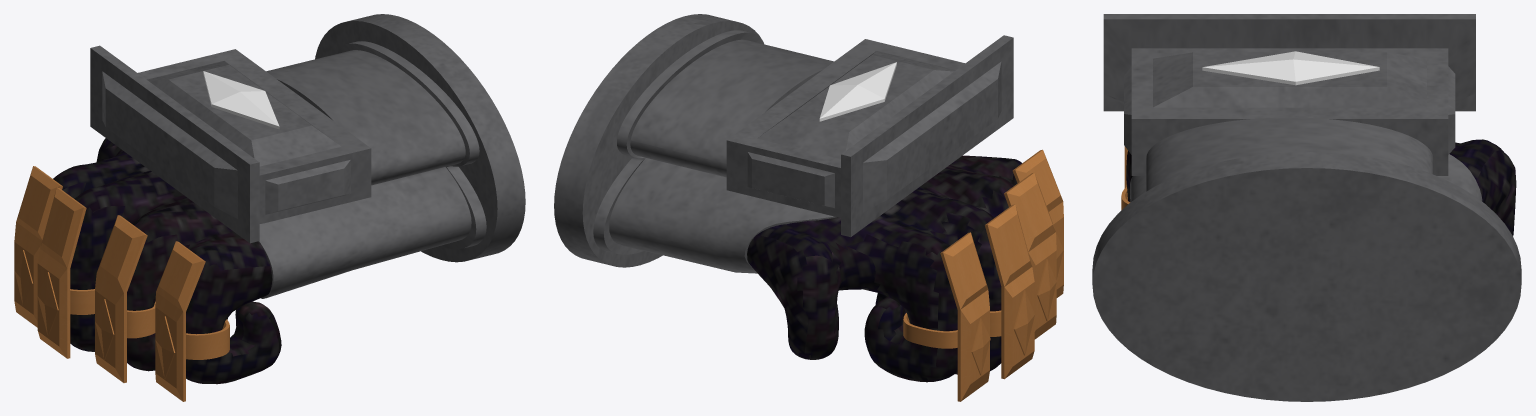
File: power fist.fbx
3 renders of one model, left to right at view 1: azimuth 30°, elevation 25°; view 2: azimuth 150°, elevation 25°; view 3: azimuth 270°, elevation 25°, orthographic. The views are drawn at different scales.
Parts seen in each view (by area): view 1: housing, punch thingy, glove, end cap, knucle guard pinky, knucle guard ringfinger, knucle guard middlefinger, knucle guard pointerfinger, crystal; view 2: punch thingy, housing, glove, end cap, knucle guard pointerfinger, knucle guard middlefinger, knucle guard ringfinger, crystal, knucle guard pinky; view 3: end cap, punch thingy, housing, crystal, glove.
Boxes of the visible parts, x1,y1,x2,y2 form: housing: [258, 41, 486, 298]; punch thingy: [90, 45, 371, 243]; glove: [53, 138, 281, 384]; end cap: [315, 14, 525, 262]; knucle guard pinky: [155, 241, 229, 401]; knucle guard ringfinger: [95, 215, 155, 382]; knucle guard middlefinger: [37, 187, 94, 358]; knucle guard pointerfinger: [14, 166, 62, 327]; crystal: [203, 71, 279, 129]; punch thingy: [726, 35, 1013, 237]; housing: [593, 30, 836, 273]; glove: [747, 155, 1021, 382]; end cap: [554, 14, 763, 267]; knucle guard pointerfinger: [903, 232, 990, 401]; knucle guard middlefinger: [985, 204, 1034, 379]; knucle guard ringfinger: [1004, 172, 1056, 339]; crystal: [819, 62, 896, 121]; knucle guard pinky: [1012, 149, 1063, 297]; end cap: [1092, 152, 1521, 401]; punch thingy: [1103, 14, 1475, 175]; housing: [1130, 117, 1482, 202]; crystal: [1202, 51, 1379, 85]; glove: [1126, 139, 1516, 235].
Size of the model in its own units: 10.58 by 6.53 by 8.85.
